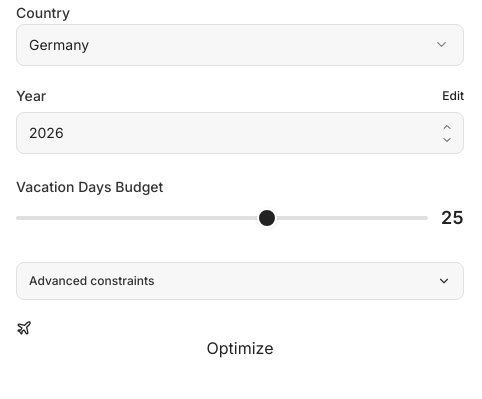
Test: OptimizerForm › toggles custom period date selectors when Edit button is clicked
expect the field labelled "Custom Period" is not shown: met
Click the button "Edit".
click(453, 96)  # box x1=442 y1=88 x2=464 y2=104
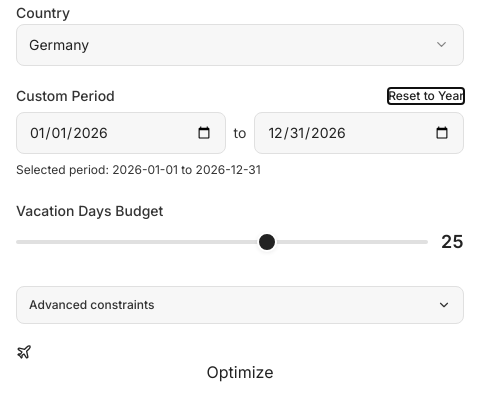
expect the 1st date field named "Start date" is shown: met, box x1=16 y1=112 x2=226 y2=154
expect the 2nd date field named "End date" is shown: met, box x1=254 y1=112 x2=464 y2=154
